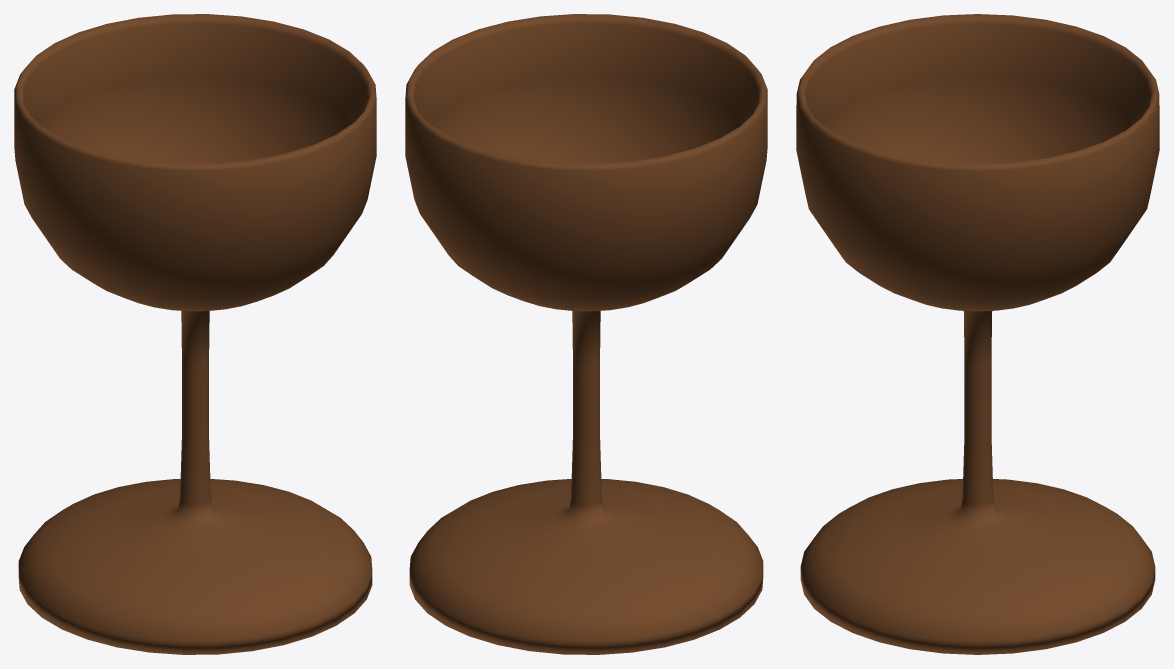
Rendered from Bronze Goblet.fbx.
3 renders of one model, left to right at view 1: azimuth 30°, elevation 25°; view 2: azimuth 150°, elevation 25°; view 3: azimuth 270°, elevation 25°, orthographic.
Parts seen in each view (by area): view 1: Bronze Goblet; view 2: Bronze Goblet; view 3: Bronze Goblet.
Part boxes in pixels (x1,y1,x2,y2): Bronze Goblet: (14,14,376,654); Bronze Goblet: (405,14,767,654); Bronze Goblet: (796,14,1159,654).
Size of the model in its own units: 205 by 205 by 306.
